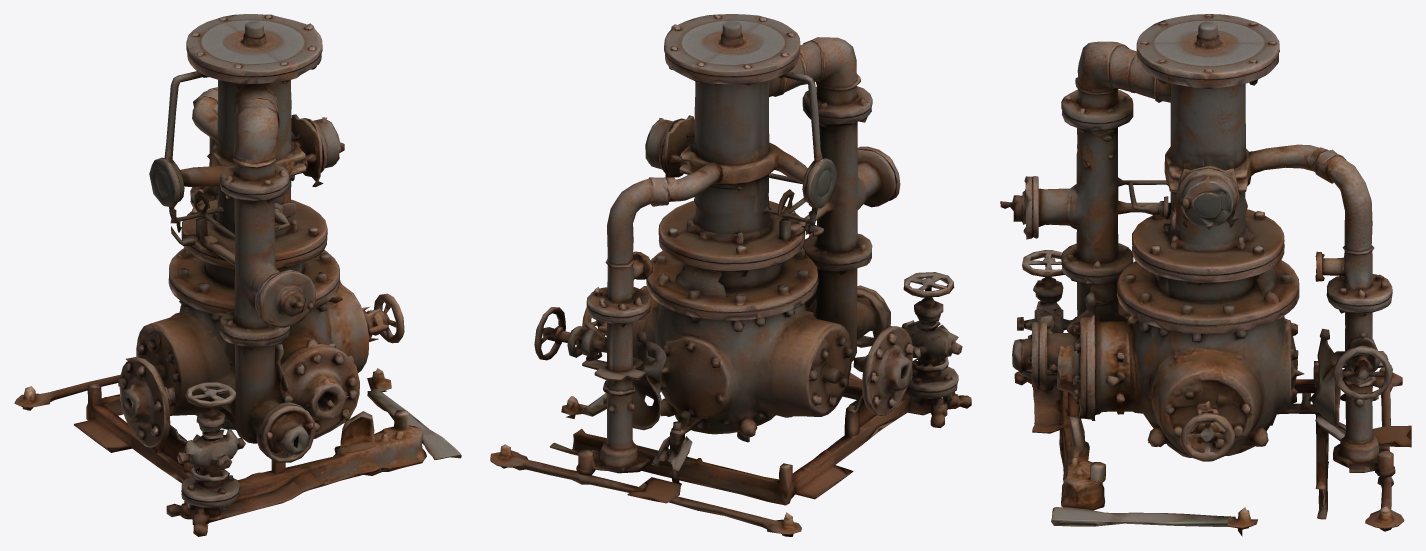
The model's file is boiler.glb.
3 views of the same model, side by side, from view 1: azimuth 30°, elevation 25°; view 2: azimuth 150°, elevation 25°; view 3: azimuth 270°, elevation 25° (orthographic). The views are drawn at different scales.
Parts seen in each view (by area): view 1: tripo_node_3ef744a1-6c74-4afb-8f6d-be5837d4edaf; view 2: tripo_node_3ef744a1-6c74-4afb-8f6d-be5837d4edaf; view 3: tripo_node_3ef744a1-6c74-4afb-8f6d-be5837d4edaf.
Boxes of the visible parts, x1=… form: tripo_node_3ef744a1-6c74-4afb-8f6d-be5837d4edaf: x1=14, y1=14, x2=461, y2=536; tripo_node_3ef744a1-6c74-4afb-8f6d-be5837d4edaf: x1=490, y1=14, x2=971, y2=536; tripo_node_3ef744a1-6c74-4afb-8f6d-be5837d4edaf: x1=1000, y1=14, x2=1411, y2=536.
Size of the model in its own units: 0.9272 by 1.2 by 1.02.
Materials: 1 (1 with a texture image).
